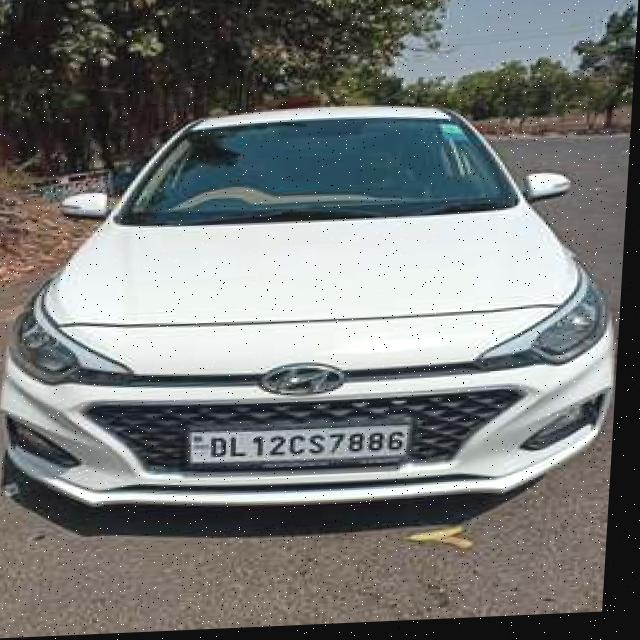plate: (189, 422, 417, 471)
